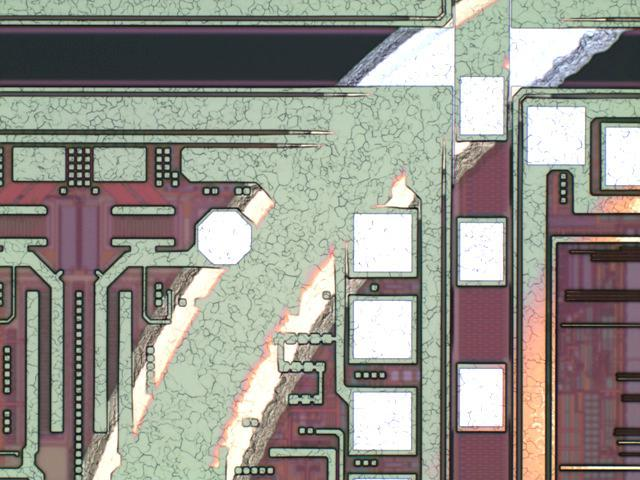COATING BAD: (80, 1, 640, 480)
